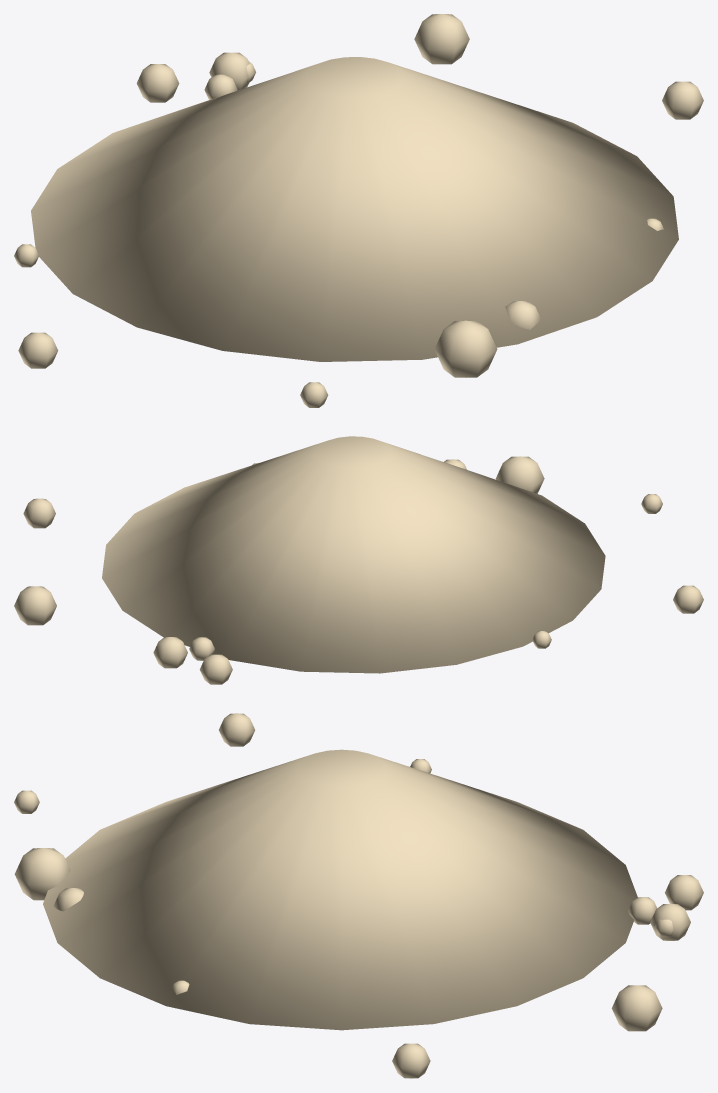
File: sand_pile.glb
The picture shows the model from 3 angles, top to bottom: view 1: azimuth 30°, elevation 25°; view 2: azimuth 150°, elevation 25°; view 3: azimuth 270°, elevation 25°; orthographic projection. The views are drawn at different scales.
Parts seen in each view (by area): view 1: sand, sand_grain5, sand_grain0, sand_grain1, sand_grain3, sand_grain7, sand_grain9, sand_grain4; view 2: sand, sand_grain0, sand_grain5, sand_grain9, sand_grain1, sand_grain3, sand_grain7, sand_grain10; view 3: sand, sand_grain5, sand_grain0, sand_grain3, sand_grain1, sand_grain7, sand_grain9, sand_grain10.
Boxes of the visible parts, x1,y1,x2,y2 form: sand: (31, 57, 678, 361); sand_grain5: (434, 320, 497, 377); sand_grain0: (414, 14, 469, 64); sand_grain1: (136, 64, 179, 102); sand_grain3: (662, 81, 703, 119); sand_grain7: (18, 332, 58, 368); sand_grain9: (209, 52, 249, 90); sand_grain4: (505, 301, 540, 329); sand: (102, 436, 605, 673); sand_grain0: (14, 586, 56, 625); sand_grain5: (495, 456, 544, 493); sand_grain9: (153, 637, 187, 668); sand_grain1: (199, 654, 232, 684); sand_grain3: (23, 498, 55, 528); sand_grain7: (673, 585, 703, 613); sand_grain10: (189, 637, 214, 660); sand: (43, 749, 637, 1030); sand_grain5: (14, 848, 70, 900); sand_grain0: (611, 985, 662, 1031); sand_grain3: (392, 1043, 430, 1078); sand_grain1: (665, 875, 703, 910); sand_grain7: (219, 713, 254, 746); sand_grain9: (650, 903, 690, 940); sand_grain10: (628, 897, 657, 924).
Size of the model in its own units: 0.1092 by 0.0229 by 0.0924.
